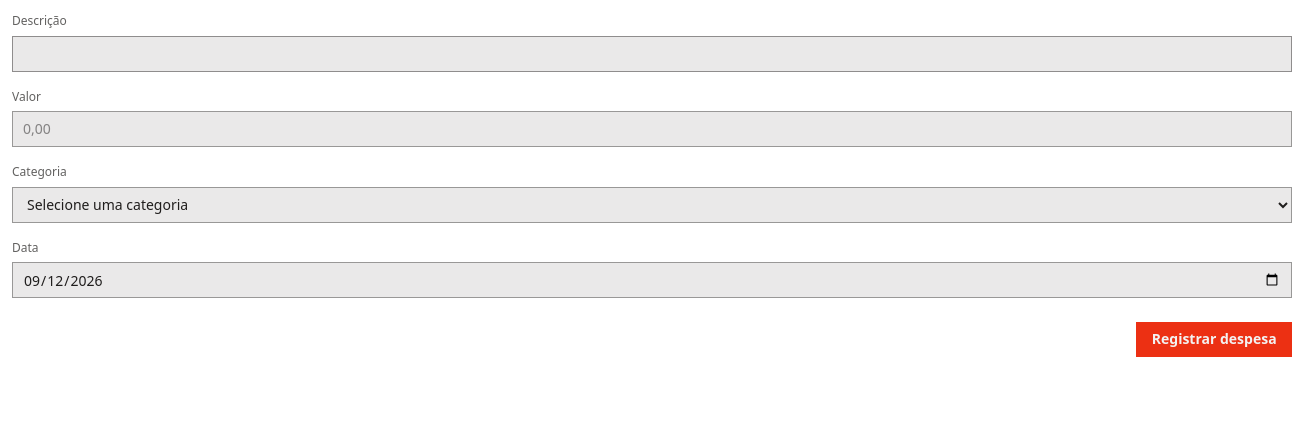
Test: TransactionForm › erro 400 da API exibe alerta genérico e mantém os dados preenchidos
Step 1. Type "Almoço no restaurante" into the field labelled "Descrição" → (652, 54), box [12,36,1292,72]
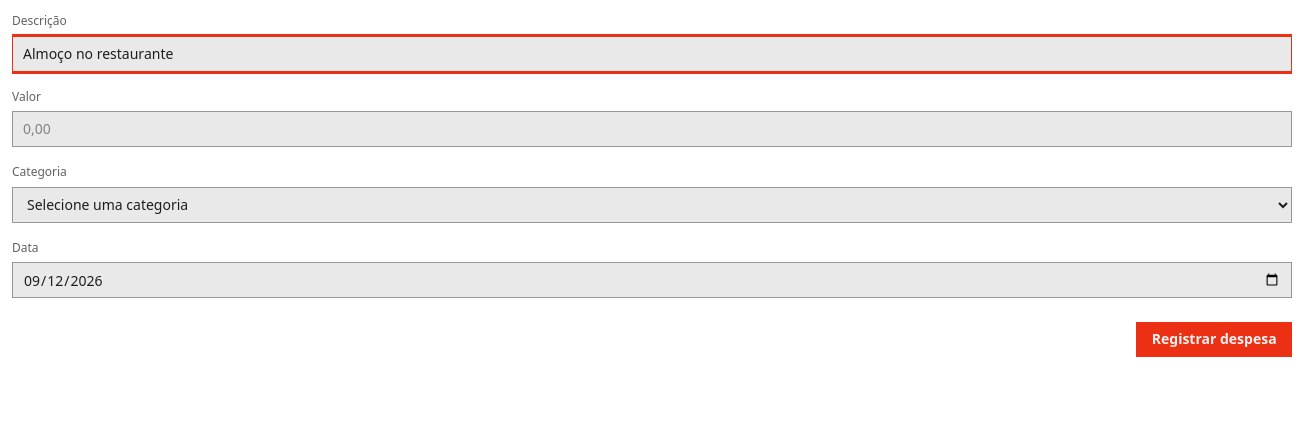
Step 2. Type "45,90" into the field labelled "Valor" → (652, 129), box [12,111,1292,147]
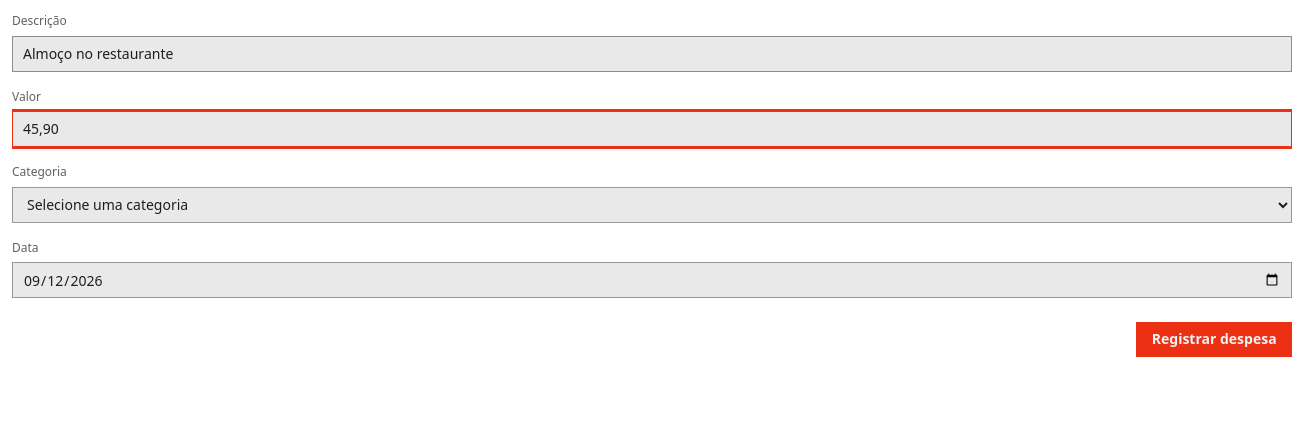
Step 3. Select "Alimentação" in the dropdown labelled "Categoria" → (652, 205), box [12,187,1292,223]
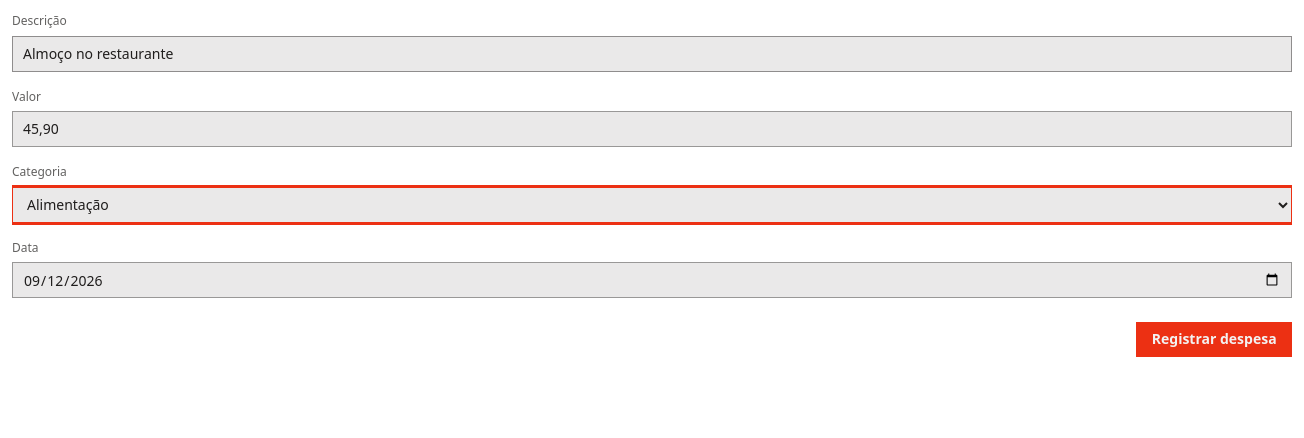
Step 4. Type "2025-06-15" into the date field labelled "Data" → (652, 280), box [12,262,1292,298]
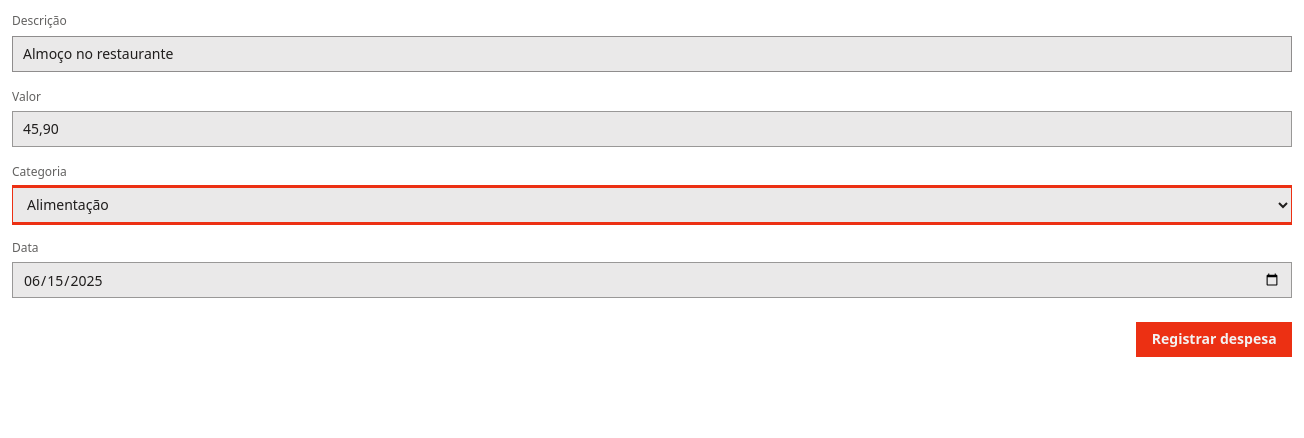
Step 5. Click the button "Registrar despesa" → click(1214, 340), box [1136,322,1292,357]
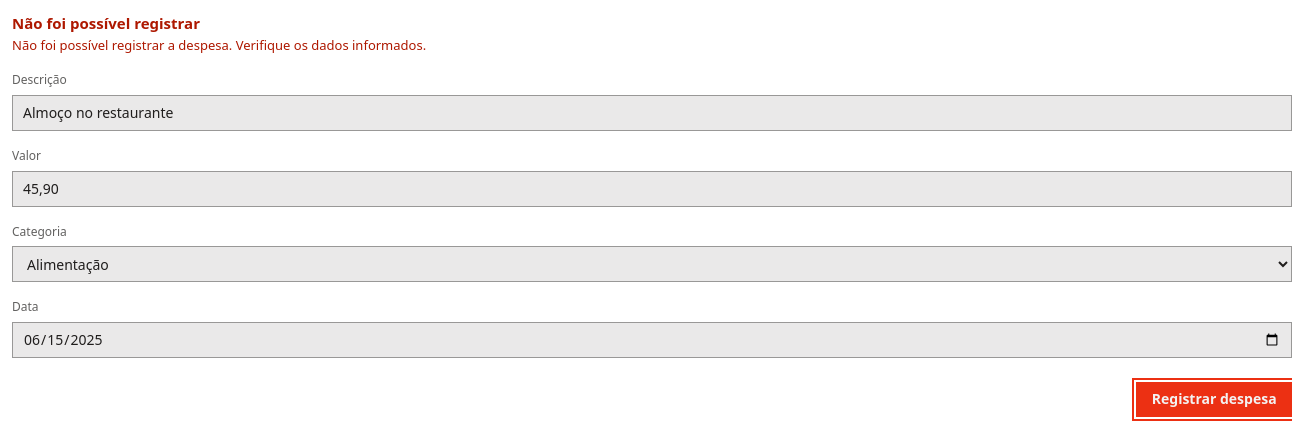
Now the text "Não foi possível registrar" is shown, box [12,13,200,33]
